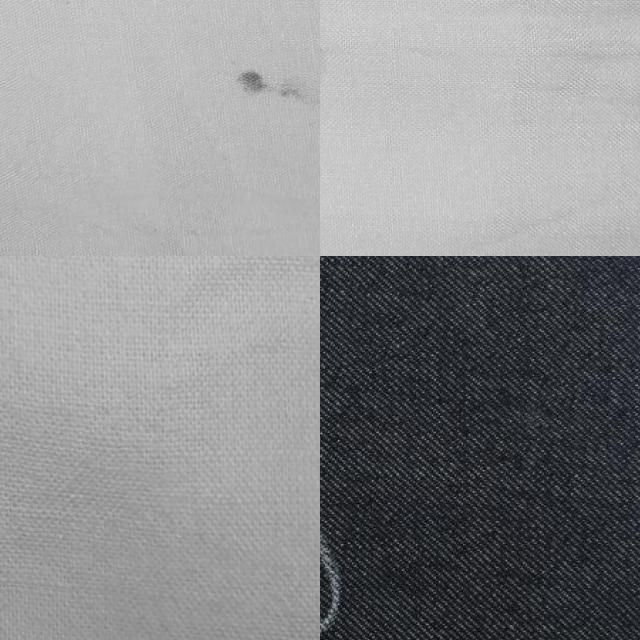Thread_other: (185, 25, 320, 129)
